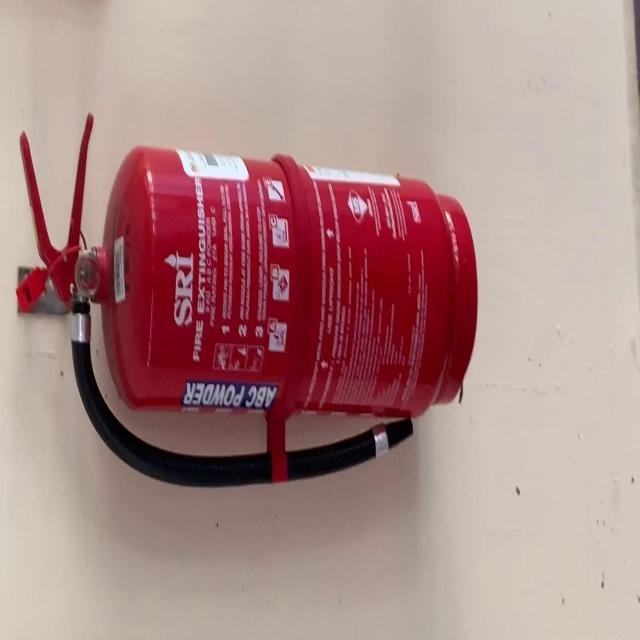fire_extinguisher: (9, 101, 483, 498)
